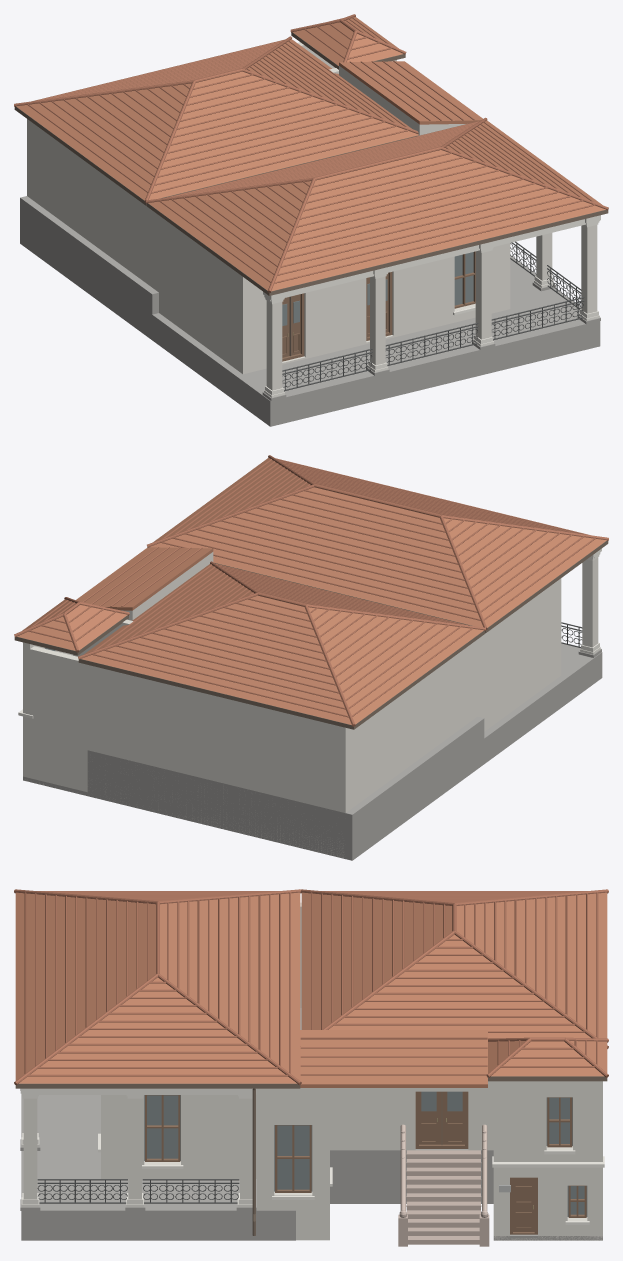
The model's file is xuhui-huaihai-road-1634-residence-web.glb.
The picture shows the model from 3 angles, top to bottom: view 1: azimuth 30°, elevation 25°; view 2: azimuth 150°, elevation 25°; view 3: azimuth 270°, elevation 25°; orthographic projection. The views are drawn at different scales.
Parts seen in each view (by area): view 1: 淮海中路1634号花园住宅（院内柱廊与错层入口）; view 2: 淮海中路1634号花园住宅（院内柱廊与错层入口）; view 3: 淮海中路1634号花园住宅（院内柱廊与错层入口）.
Boxes of the visible parts, box(x1,y1,x2,y2) form: 淮海中路1634号花园住宅（院内柱廊与错层入口）: box(14, 14, 608, 426); 淮海中路1634号花园住宅（院内柱廊与错层入口）: box(14, 455, 608, 860); 淮海中路1634号花园住宅（院内柱廊与错层入口）: box(14, 889, 608, 1246).
Bounding box in the file's own units: 14.59 × 7.39 × 18.74.
